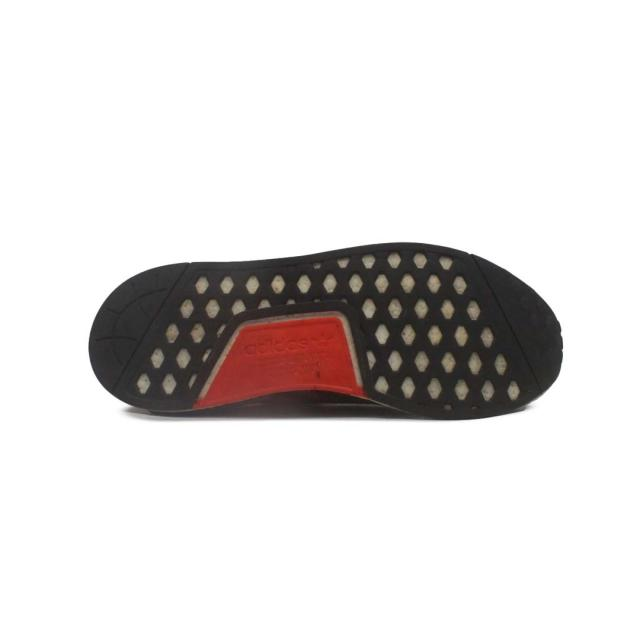outersole: (91, 243, 565, 421)
